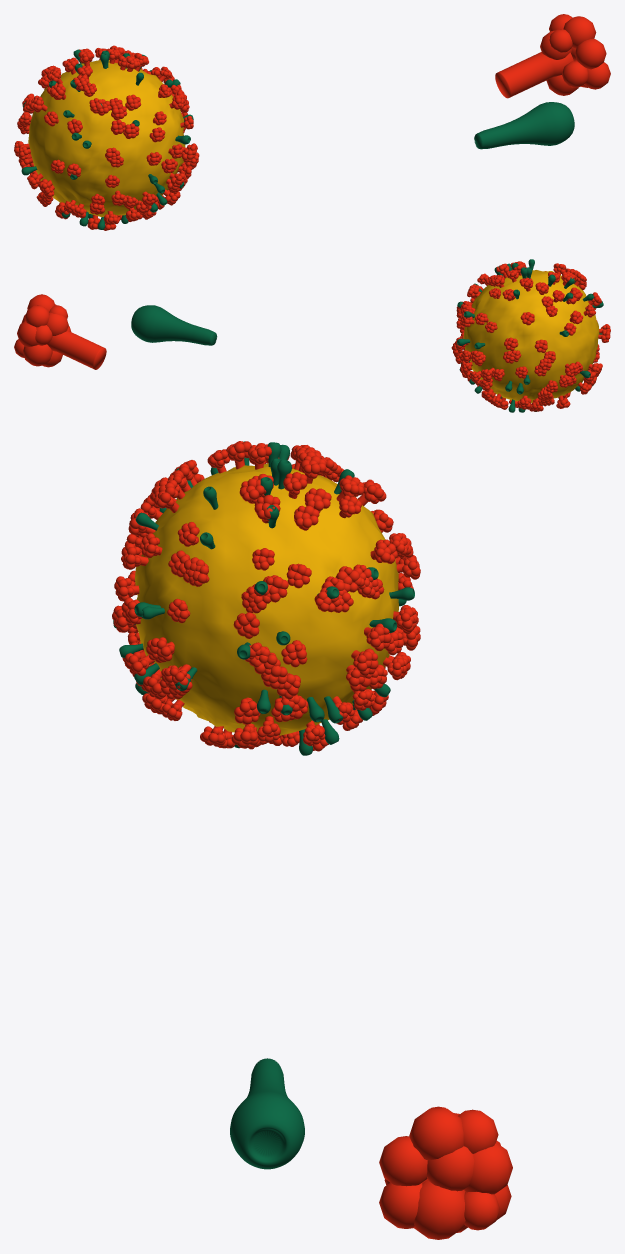
Rendered from Corona.fbx.
The picture shows the model from 3 angles, top to bottom: view 1: azimuth 30°, elevation 25°; view 2: azimuth 150°, elevation 25°; view 3: azimuth 270°, elevation 25°; orthographic projection. The views are drawn at different scales.
Visible parts, largest first — view 1: Куб, Цилиндр.001, Цилиндр; view 2: Куб, Цилиндр.001, Цилиндр; view 3: Куб, Цилиндр.001, Цилиндр.
Boxes of the visible parts, box(x1,y1,x2,y2) form: Куб: box(28, 60, 185, 216); Цилиндр.001: box(495, 14, 610, 98); Цилиндр: box(474, 102, 574, 149); Куб: box(463, 270, 599, 402); Цилиндр.001: box(14, 294, 106, 369); Цилиндр: box(131, 305, 217, 345); Куб: box(135, 463, 398, 735); Цилиндр.001: box(379, 1106, 512, 1239); Цилиндр: box(230, 1058, 304, 1169).
Size of the model in its own units: 921 by 285 by 300.
